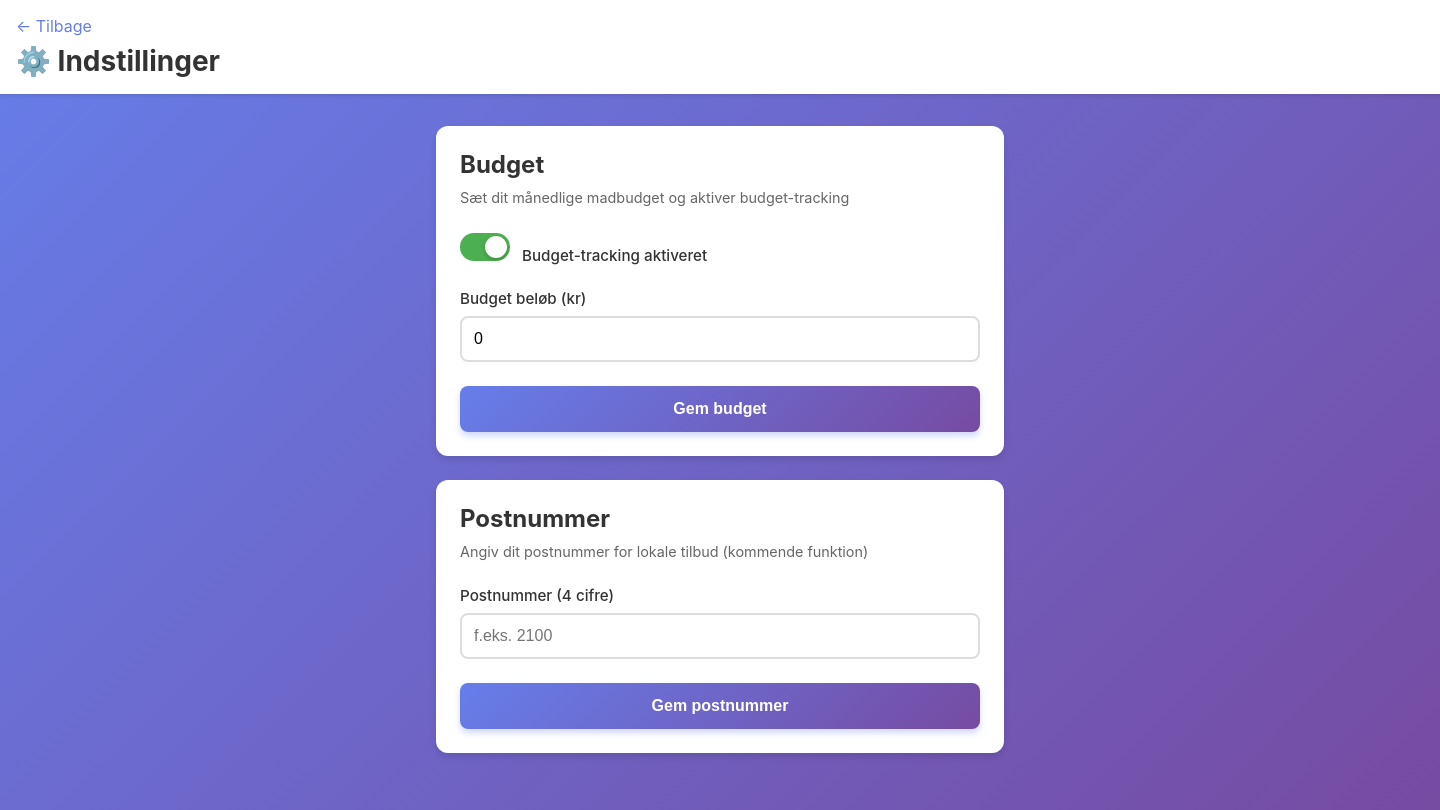
Indstillinger Page › Budget Settings › saves budget and shows success message
Replace the text in the number field labelled "Budget beløb (kr)" with "4000" at (720, 339), box top-left (460, 316), bottom-right (980, 362)
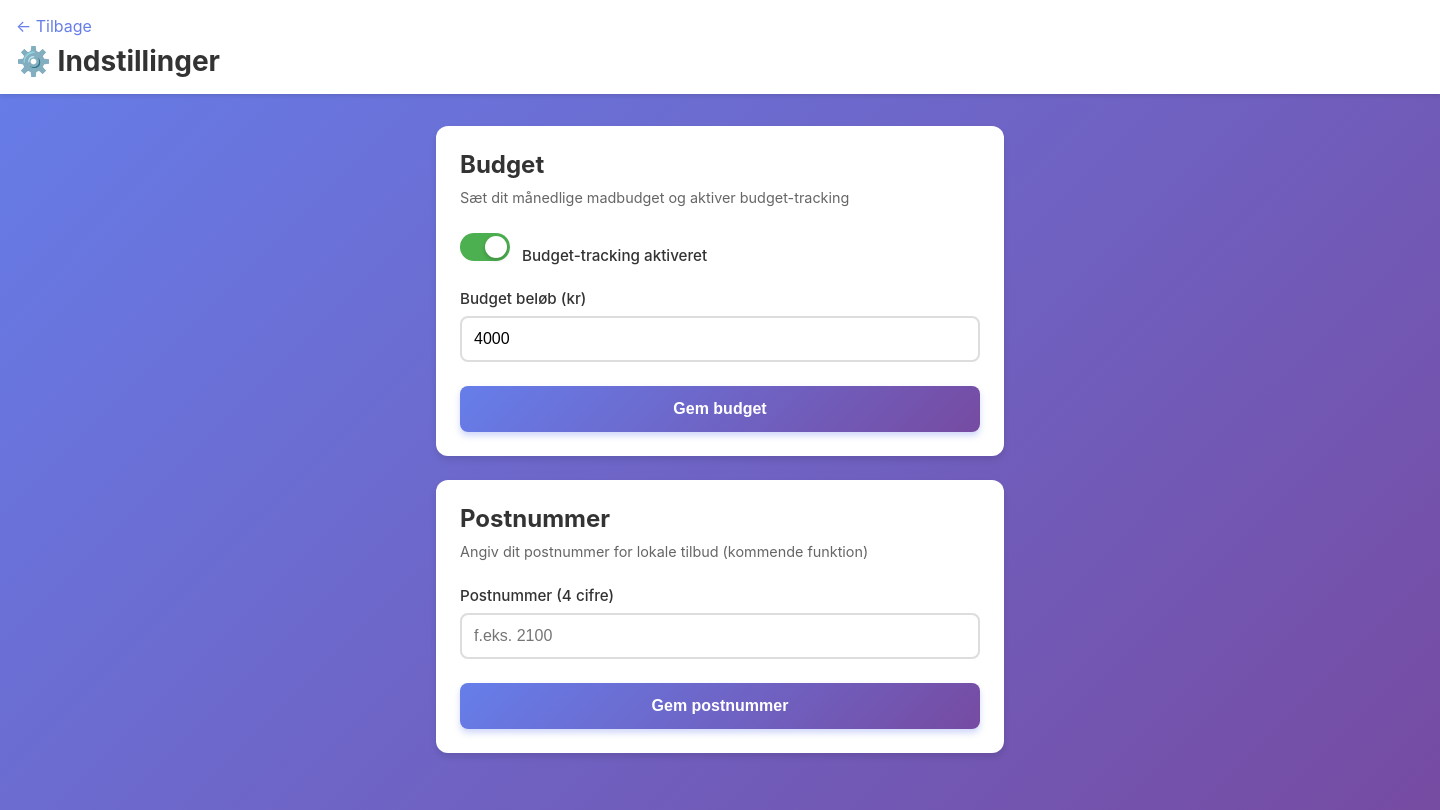
Click the button "Gem budget" at (720, 409), box top-left (460, 386), bottom-right (980, 432)
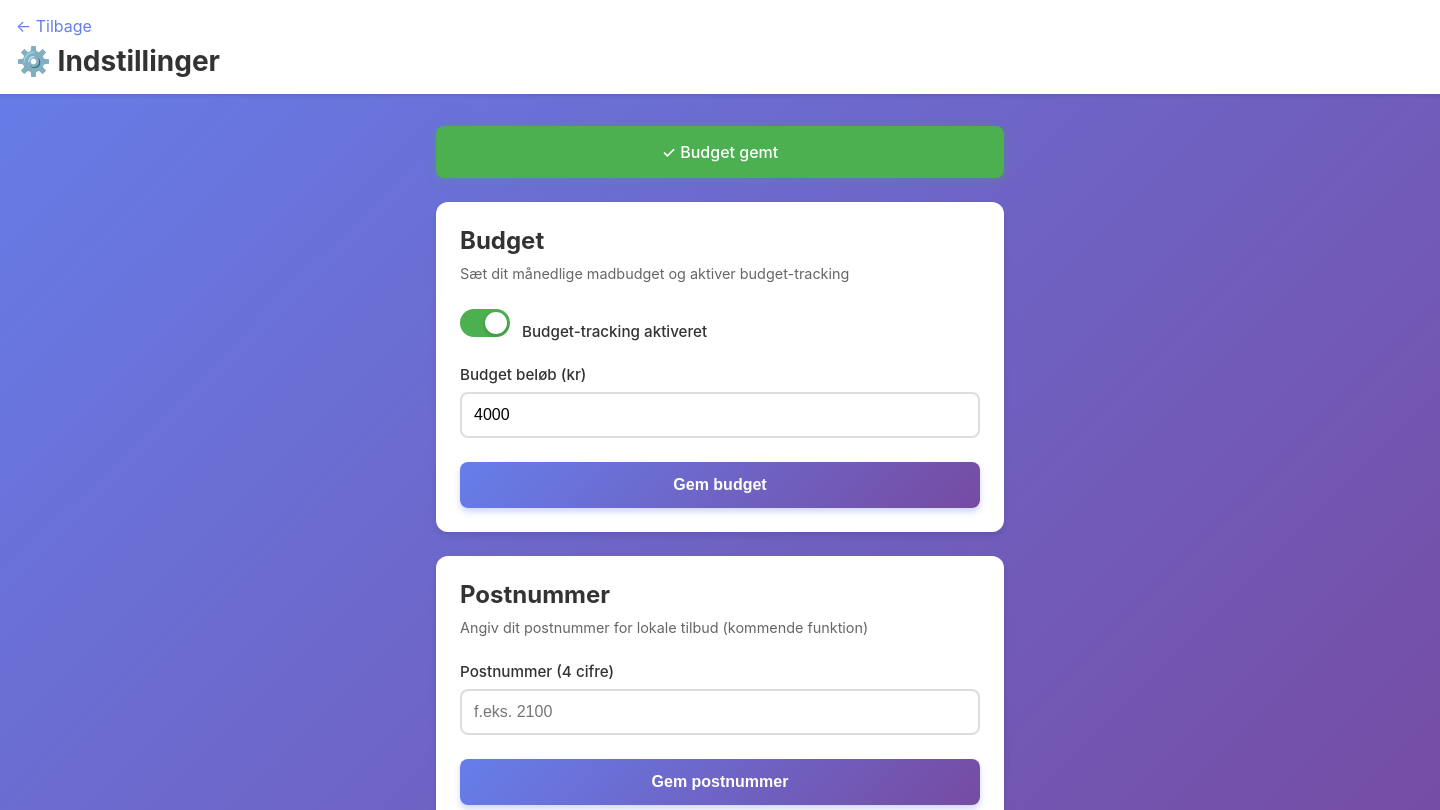
Result: the text "✓ Budget gemt" is shown at top-left (436, 126), bottom-right (1004, 178)
